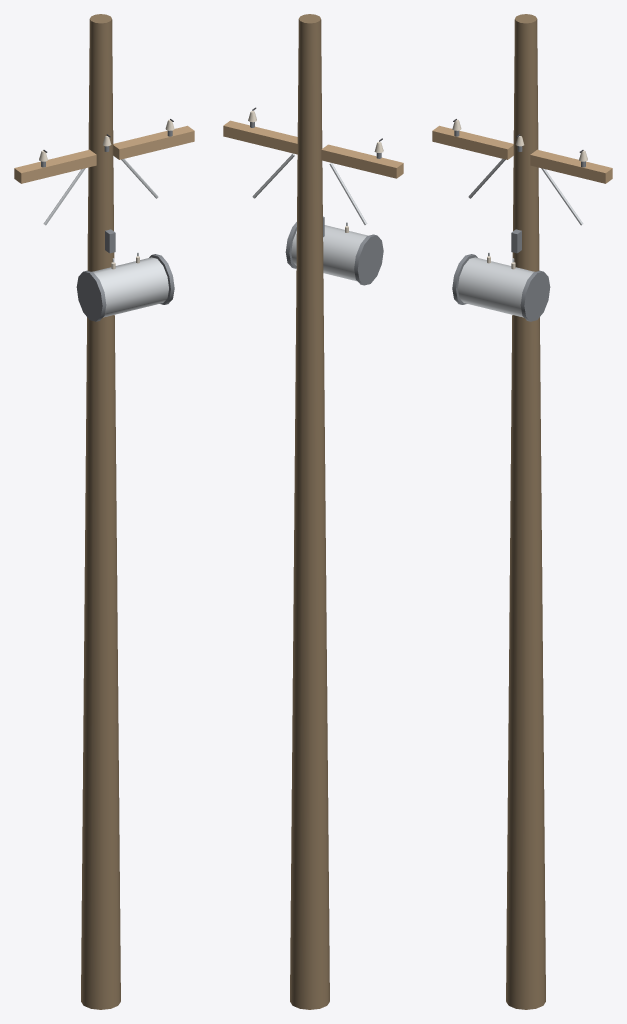
The model's file is WoodPole_Single.fbx.
3 views of the same model, side by side, from view 1: azimuth 30°, elevation 25°; view 2: azimuth 150°, elevation 25°; view 3: azimuth 330°, elevation 25° (orthographic).
Parts seen in each view (by area): view 1: LOD0; view 2: LOD0; view 3: LOD0.
Boxes of the visible parts, left/top/right/bottom form: LOD0: left=14, top=14, right=194, bottom=1009; LOD0: left=223, top=14, right=403, bottom=1009; LOD0: left=432, top=14, right=612, bottom=1009.
Size of what is drawn, in the model's own units: 170 by 920 by 81.
